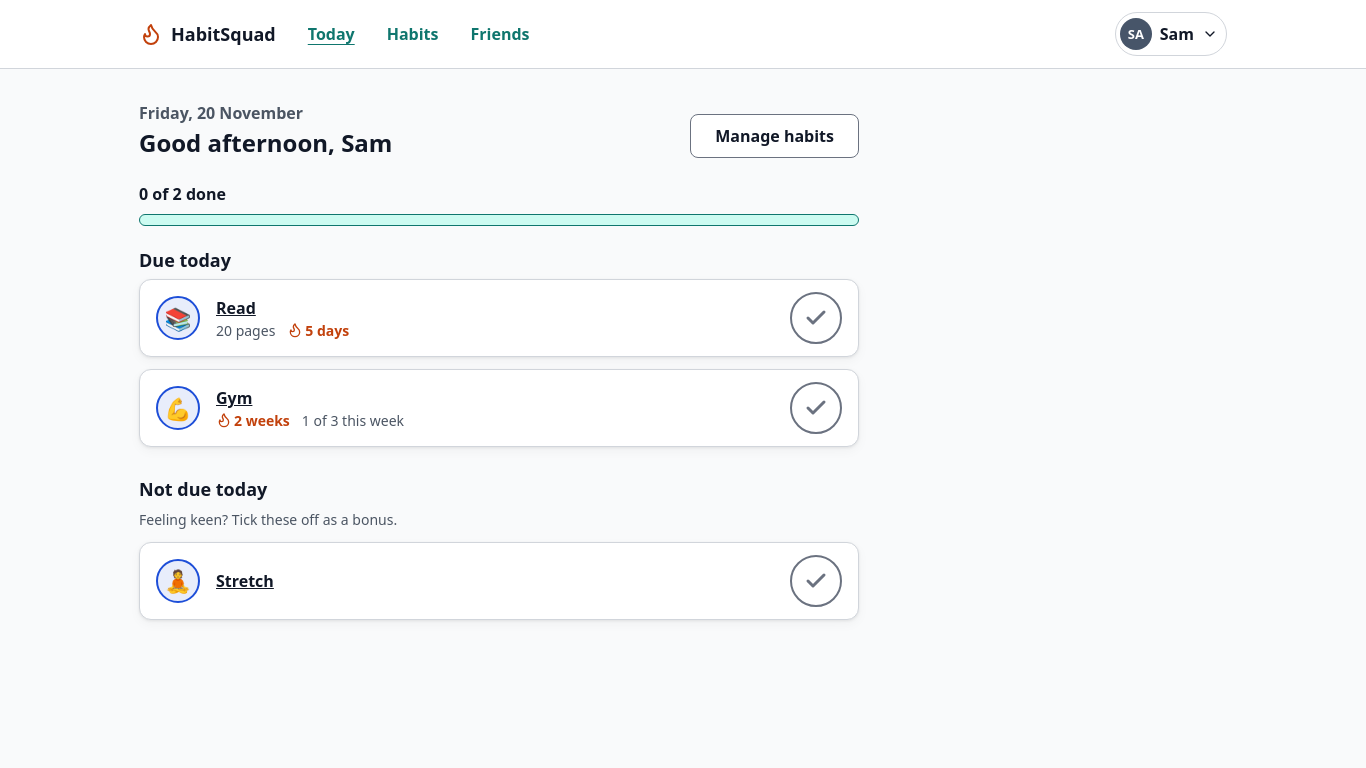
Scenario: TodayPage › one tap checks a habit in and shows the new streak from the server
The image size is (1366, 768).
Expected: the heading "Due today" is shown, [139,248,231,272]
Click the button named "Mark Read as done" at (816, 318), box [790,292,842,344]
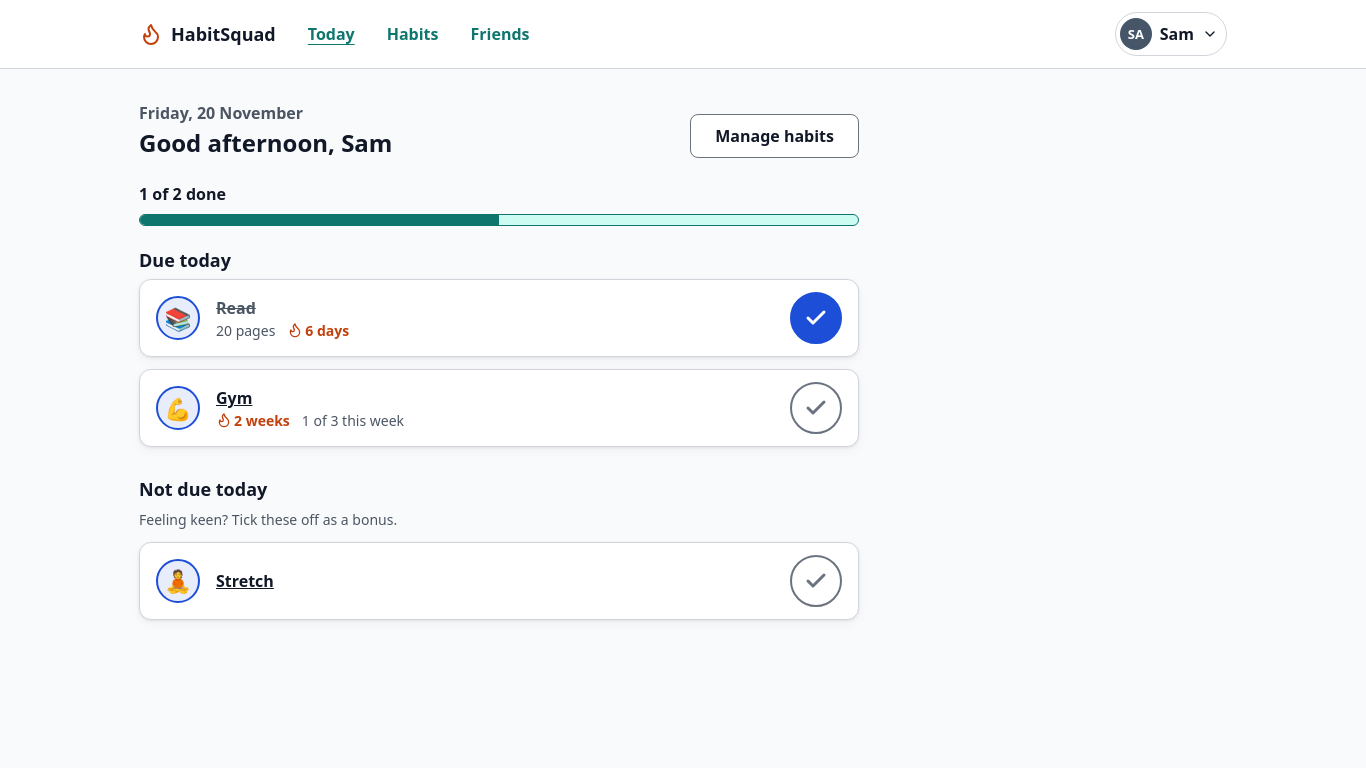
Now the message reads "1 of 2 done", box [139,183,226,205]
Now the text "6 days" is shown, box [287,320,349,341]
